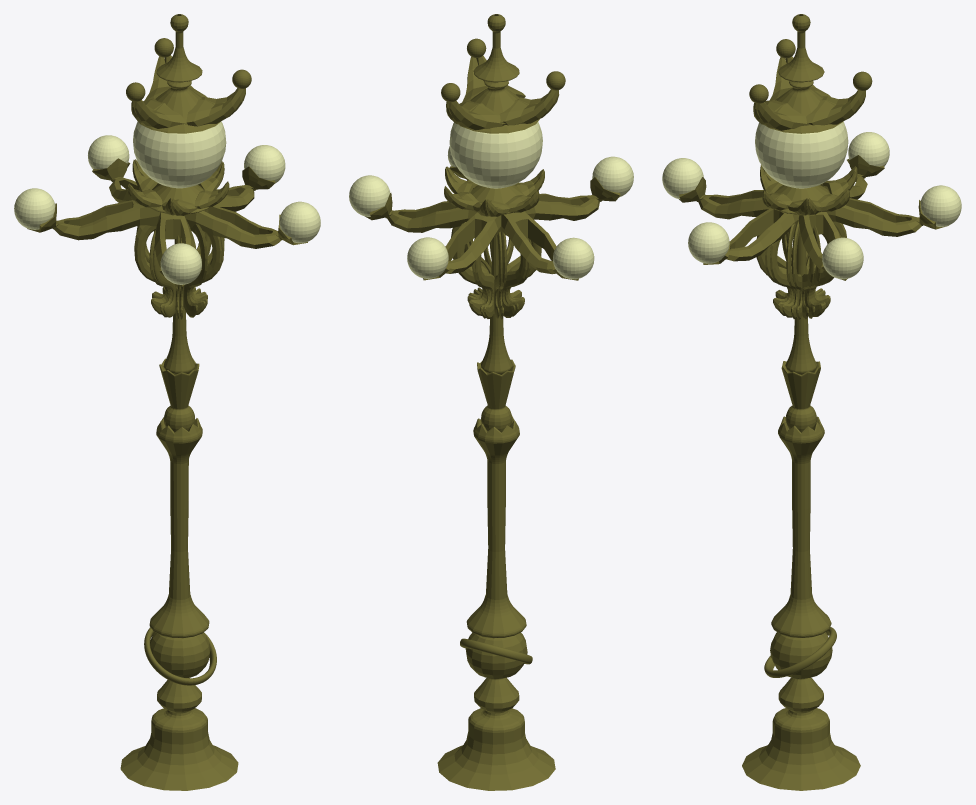
Rendered from lamp_post_.fbx.
3 views of the same model, side by side, from view 1: azimuth 30°, elevation 25°; view 2: azimuth 150°, elevation 25°; view 3: azimuth 270°, elevation 25° (orthographic).
Visible parts, largest first — view 1: Cube.009, Sphere.005, Sphere.004, Sphere.003, Sphere, Sphere.002, Sphere.001; view 2: Cube.009, Sphere.005, Sphere.001, Sphere, Sphere.002, Sphere.004; view 3: Cube.009, Sphere.005, Sphere.002, Sphere.003, Sphere.001, Sphere.004, Sphere.
Part boxes in pixels (x1,y1,x2,y2): Cube.009: (27, 14, 307, 790); Sphere.005: (133, 121, 226, 188); Sphere.004: (160, 243, 201, 284); Sphere.003: (279, 201, 320, 243); Sphere: (14, 188, 55, 229); Sphere.002: (244, 145, 285, 183); Sphere.001: (88, 135, 129, 169); Cube.009: (365, 14, 620, 790); Sphere.005: (449, 122, 542, 188); Sphere.001: (407, 237, 448, 278); Sphere: (553, 237, 594, 279); Sphere.002: (349, 175, 390, 216); Sphere.004: (592, 156, 633, 197); Cube.009: (679, 14, 948, 790); Sphere.005: (755, 121, 848, 188); Sphere.002: (822, 237, 863, 279); Sphere.003: (688, 222, 729, 263); Sphere.001: (920, 185, 961, 226); Sphere.004: (662, 158, 703, 199); Sphere: (848, 132, 889, 166).
Bounding box in the file's own units: 959 × 2720 × 984.
